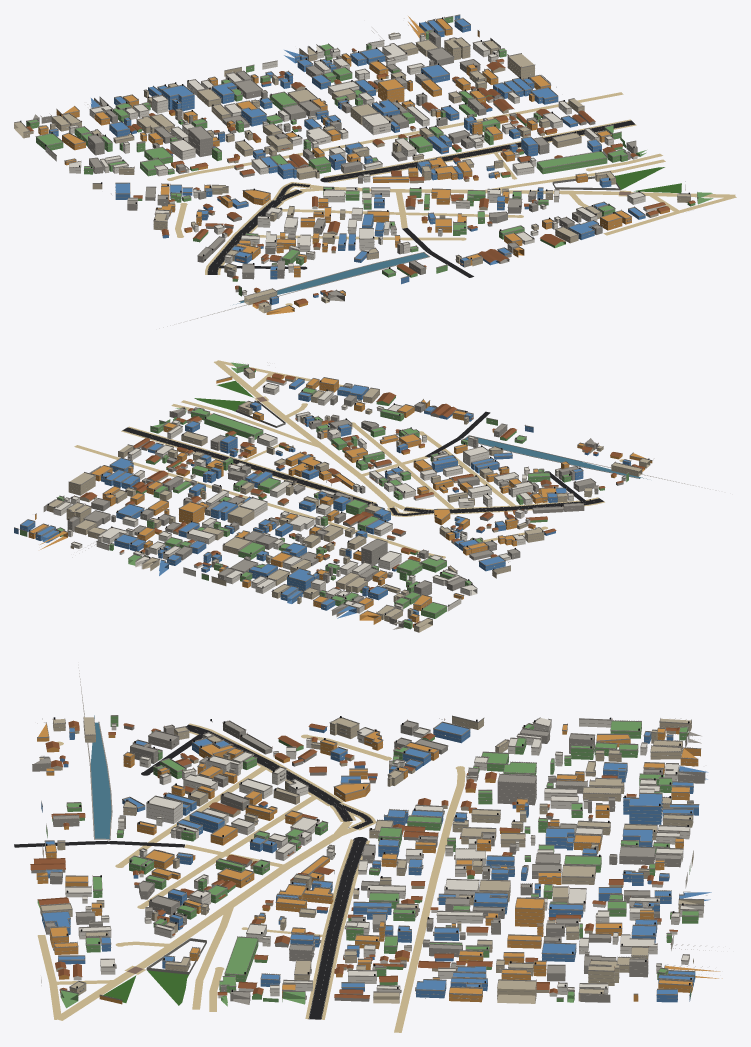
The model's file is zone_t-2_2.glb.
The picture shows the model from 3 angles, top to bottom: view 1: azimuth 30°, elevation 25°; view 2: azimuth 150°, elevation 25°; view 3: azimuth 270°, elevation 25°; orthographic projection. The views are drawn at different scales.
Parts seen in each view (by area): view 1: parapet_t-2_2, bld_peinture_blanc_t-2_2-col, bld_peinture_bleu_t-2_2-col, bld_peinture_ecaillee_t-2_2-col, bld_peinture_ocre_t-2_2-col, bld_peinture_vert_t-2_2-col, bld_beton_t-2_2-col, toit_tole_t-2_2, route_residential_terre_t-2_2, bandeau_t-2_2, route_secondary_bitume_t-2_2, accotement_t-2_2 (+5 smaller); view 2: parapet_t-2_2, bld_peinture_bleu_t-2_2-col, bld_peinture_blanc_t-2_2-col, bld_peinture_ecaillee_t-2_2-col, bld_peinture_ocre_t-2_2-col, bld_peinture_vert_t-2_2-col, bld_beton_t-2_2-col, toit_tole_t-2_2, route_residential_terre_t-2_2, bandeau_t-2_2, route_secondary_bitume_t-2_2, route_tertiary_terre_t-2_2 (+5 smaller); view 3: parapet_t-2_2, bld_peinture_bleu_t-2_2-col, bld_peinture_blanc_t-2_2-col, bld_peinture_ocre_t-2_2-col, bld_peinture_ecaillee_t-2_2-col, bld_beton_t-2_2-col, bld_peinture_vert_t-2_2-col, toit_tole_t-2_2, route_residential_terre_t-2_2, bandeau_t-2_2, route_secondary_bitume_t-2_2, route_tertiary_terre_t-2_2 (+5 smaller).
Part boxes in pixels (<box>): parapet_t-2_2: <box>14,14,701,313</box>; bld_peinture_blanc_t-2_2-col: <box>45,33,665,295</box>; bld_peinture_bleu_t-2_2-col: <box>49,15,645,304</box>; bld_peinture_ecaillee_t-2_2-col: <box>14,32,690,313</box>; bld_peinture_ocre_t-2_2-col: <box>38,16,685,314</box>; bld_peinture_vert_t-2_2-col: <box>26,16,713,296</box>; bld_beton_t-2_2-col: <box>33,32,637,301</box>; toit_tole_t-2_2: <box>26,48,695,306</box>; route_residential_terre_t-2_2: <box>167,92,736,305</box>; bandeau_t-2_2: <box>14,18,697,310</box>; route_secondary_bitume_t-2_2: <box>207,120,635,274</box>; accotement_t-2_2: <box>205,119,636,274</box>; parapet_t-2_2: <box>14,362,654,627</box>; bld_peinture_bleu_t-2_2-col: <box>14,379,630,620</box>; bld_peinture_blanc_t-2_2-col: <box>53,379,626,613</box>; bld_peinture_ecaillee_t-2_2-col: <box>47,368,650,632</box>; bld_peinture_ocre_t-2_2-col: <box>28,376,652,627</box>; bld_peinture_vert_t-2_2-col: <box>20,362,628,629</box>; bld_beton_t-2_2-col: <box>43,383,623,629</box>; toit_tole_t-2_2: <box>80,368,645,625</box>; route_residential_terre_t-2_2: <box>74,360,623,558</box>; bandeau_t-2_2: <box>18,365,649,630</box>; route_secondary_bitume_t-2_2: <box>122,427,603,515</box>; route_tertiary_terre_t-2_2: <box>214,360,405,509</box>; parapet_t-2_2: <box>32,715,711,1000</box>; bld_peinture_bleu_t-2_2-col: <box>41,722,711,1002</box>; bld_peinture_blanc_t-2_2-col: <box>65,718,703,998</box>; bld_peinture_ocre_t-2_2-col: <box>36,723,722,1004</box>; bld_peinture_ecaillee_t-2_2-col: <box>39,717,703,1003</box>; bld_beton_t-2_2-col: <box>31,721,705,1004</box>; bld_peinture_vert_t-2_2-col: <box>37,716,698,1008</box>; toit_tole_t-2_2: <box>30,720,679,998</box>; route_residential_terre_t-2_2: <box>37,734,465,1032</box>; bandeau_t-2_2: <box>33,719,709,1000</box>; route_secondary_bitume_t-2_2: <box>186,724,373,1019</box>; route_tertiary_terre_t-2_2: <box>54,821,357,1020</box>.
Size of the model in its own units: 674 by 18.95 by 554.
